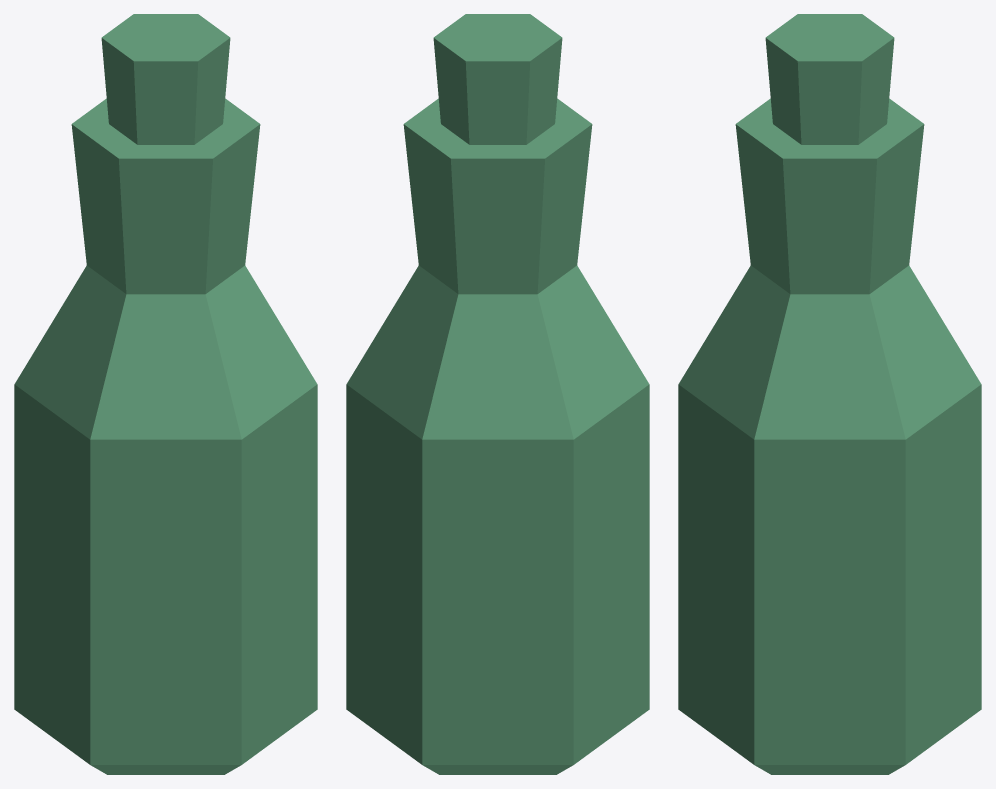
The model's file is bottle.obj.
3 renders of one model, left to right at view 1: azimuth 30°, elevation 25°; view 2: azimuth 150°, elevation 25°; view 3: azimuth 270°, elevation 25°, orthographic.
Size of the model in its own units: 0.0527 by 0.1539 by 0.0608.
